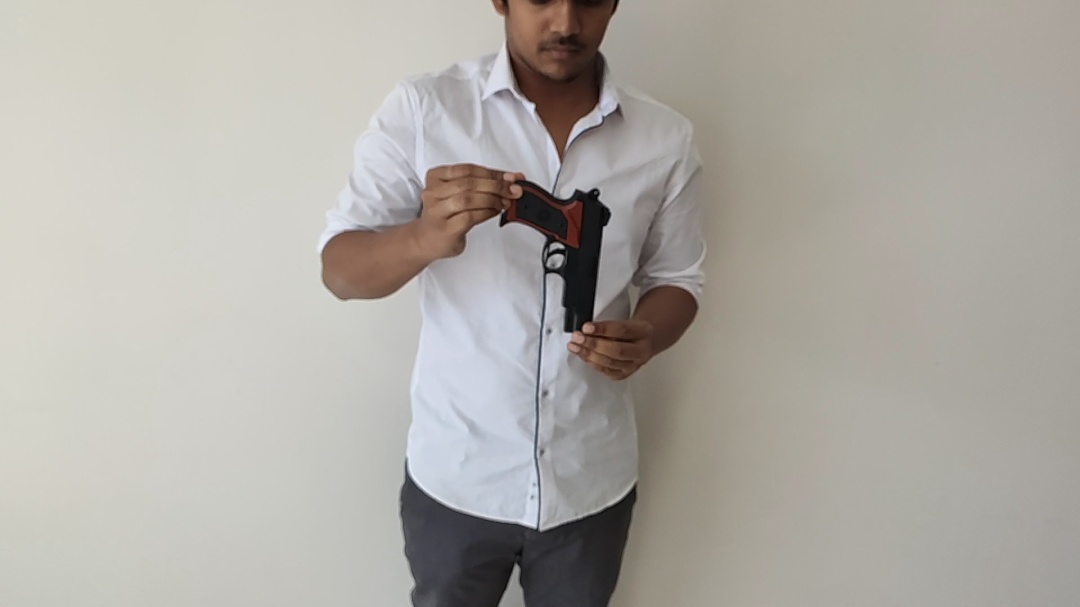gun: (222, 118, 952, 580)
